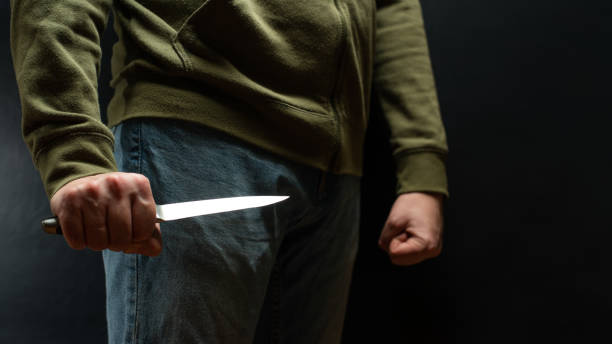knife: (38, 189, 294, 238)
